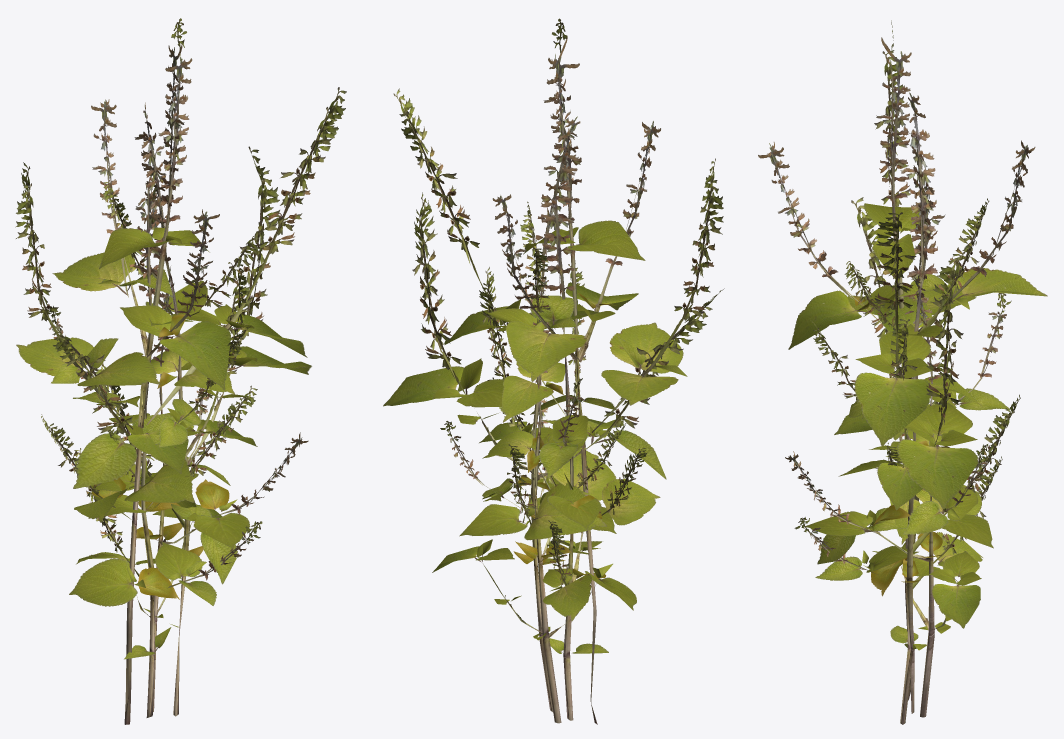
The model's file is arbrisseau.glb.
3 renders of one model, left to right at view 1: azimuth 30°, elevation 25°; view 2: azimuth 150°, elevation 25°; view 3: azimuth 270°, elevation 25°, orthographic. The views are drawn at different scales.
Parts seen in each view (by area): view 1: shrub_03_a, shrub_03_b, shrub_03_c, shrub_03_d; view 2: shrub_03_a, shrub_03_b, shrub_03_c, shrub_03_d; view 3: shrub_03_a, shrub_03_b, shrub_03_d, shrub_03_c.
Boxes of the visible parts, <box> form: shrub_03_a: <box>15,18,346,724</box>; shrub_03_b: <box>45,102,311,716</box>; shrub_03_c: <box>46,176,262,717</box>; shrub_03_d: <box>69,266,237,711</box>; shrub_03_a: <box>393,18,723,724</box>; shrub_03_b: <box>383,116,724,712</box>; shrub_03_c: <box>479,199,616,720</box>; shrub_03_d: <box>432,277,636,723</box>; shrub_03_a: <box>758,20,1047,700</box>; shrub_03_b: <box>785,92,1020,724</box>; shrub_03_d: <box>817,276,988,717</box>; shrub_03_c: <box>794,181,1011,713</box>.
Bounding box in the file's own units: 0.2006 × 0.4028 × 0.1512.
1 material, 1 textured.
